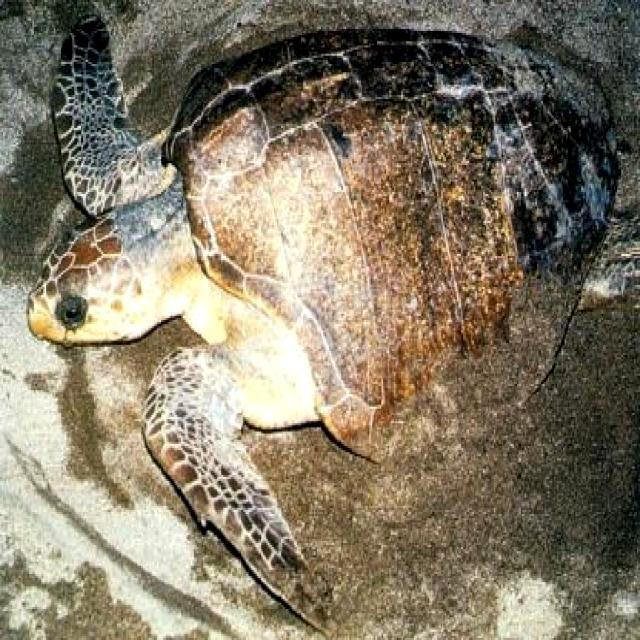Sea turtle: (20, 17, 640, 602)
